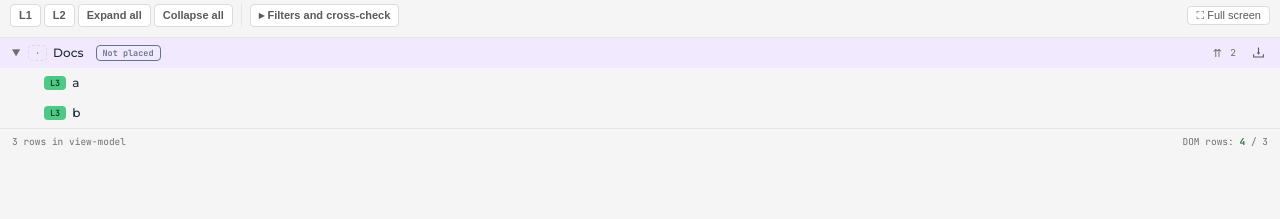
Scenario: cross-check toggle › marks the missed row and counts it on the section
Click the button "▸ Filters and cross-check" at (325,15), box [250,4,399,26]
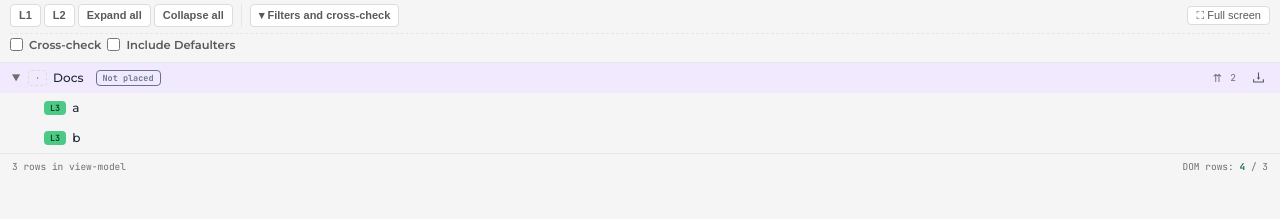
Click the checkbox labelled "Cross-check" at (16,44), box [10,38,23,51]
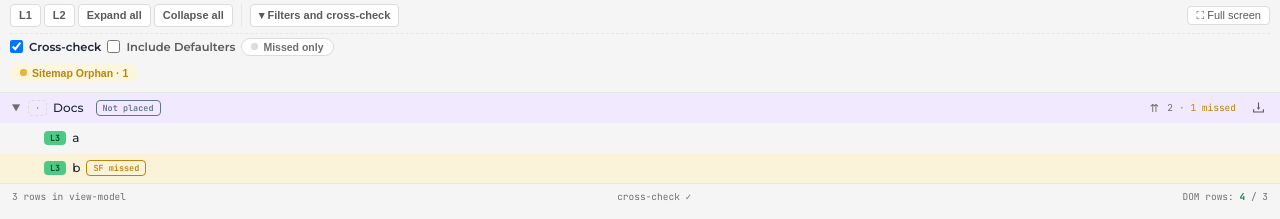
expect the number of elements with class "xmark-missed" is 1: met, box [86,160,146,176]
expect the text "· 1 missed" is shown: met, box [1179,101,1236,114]
expect the button "Sitemap Orphan · 1" is shown: met, box [10,64,138,82]
